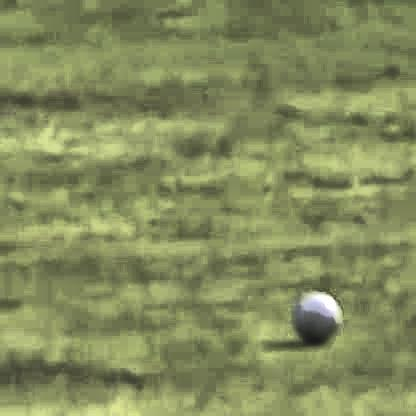golfball: (289, 288, 339, 339)
